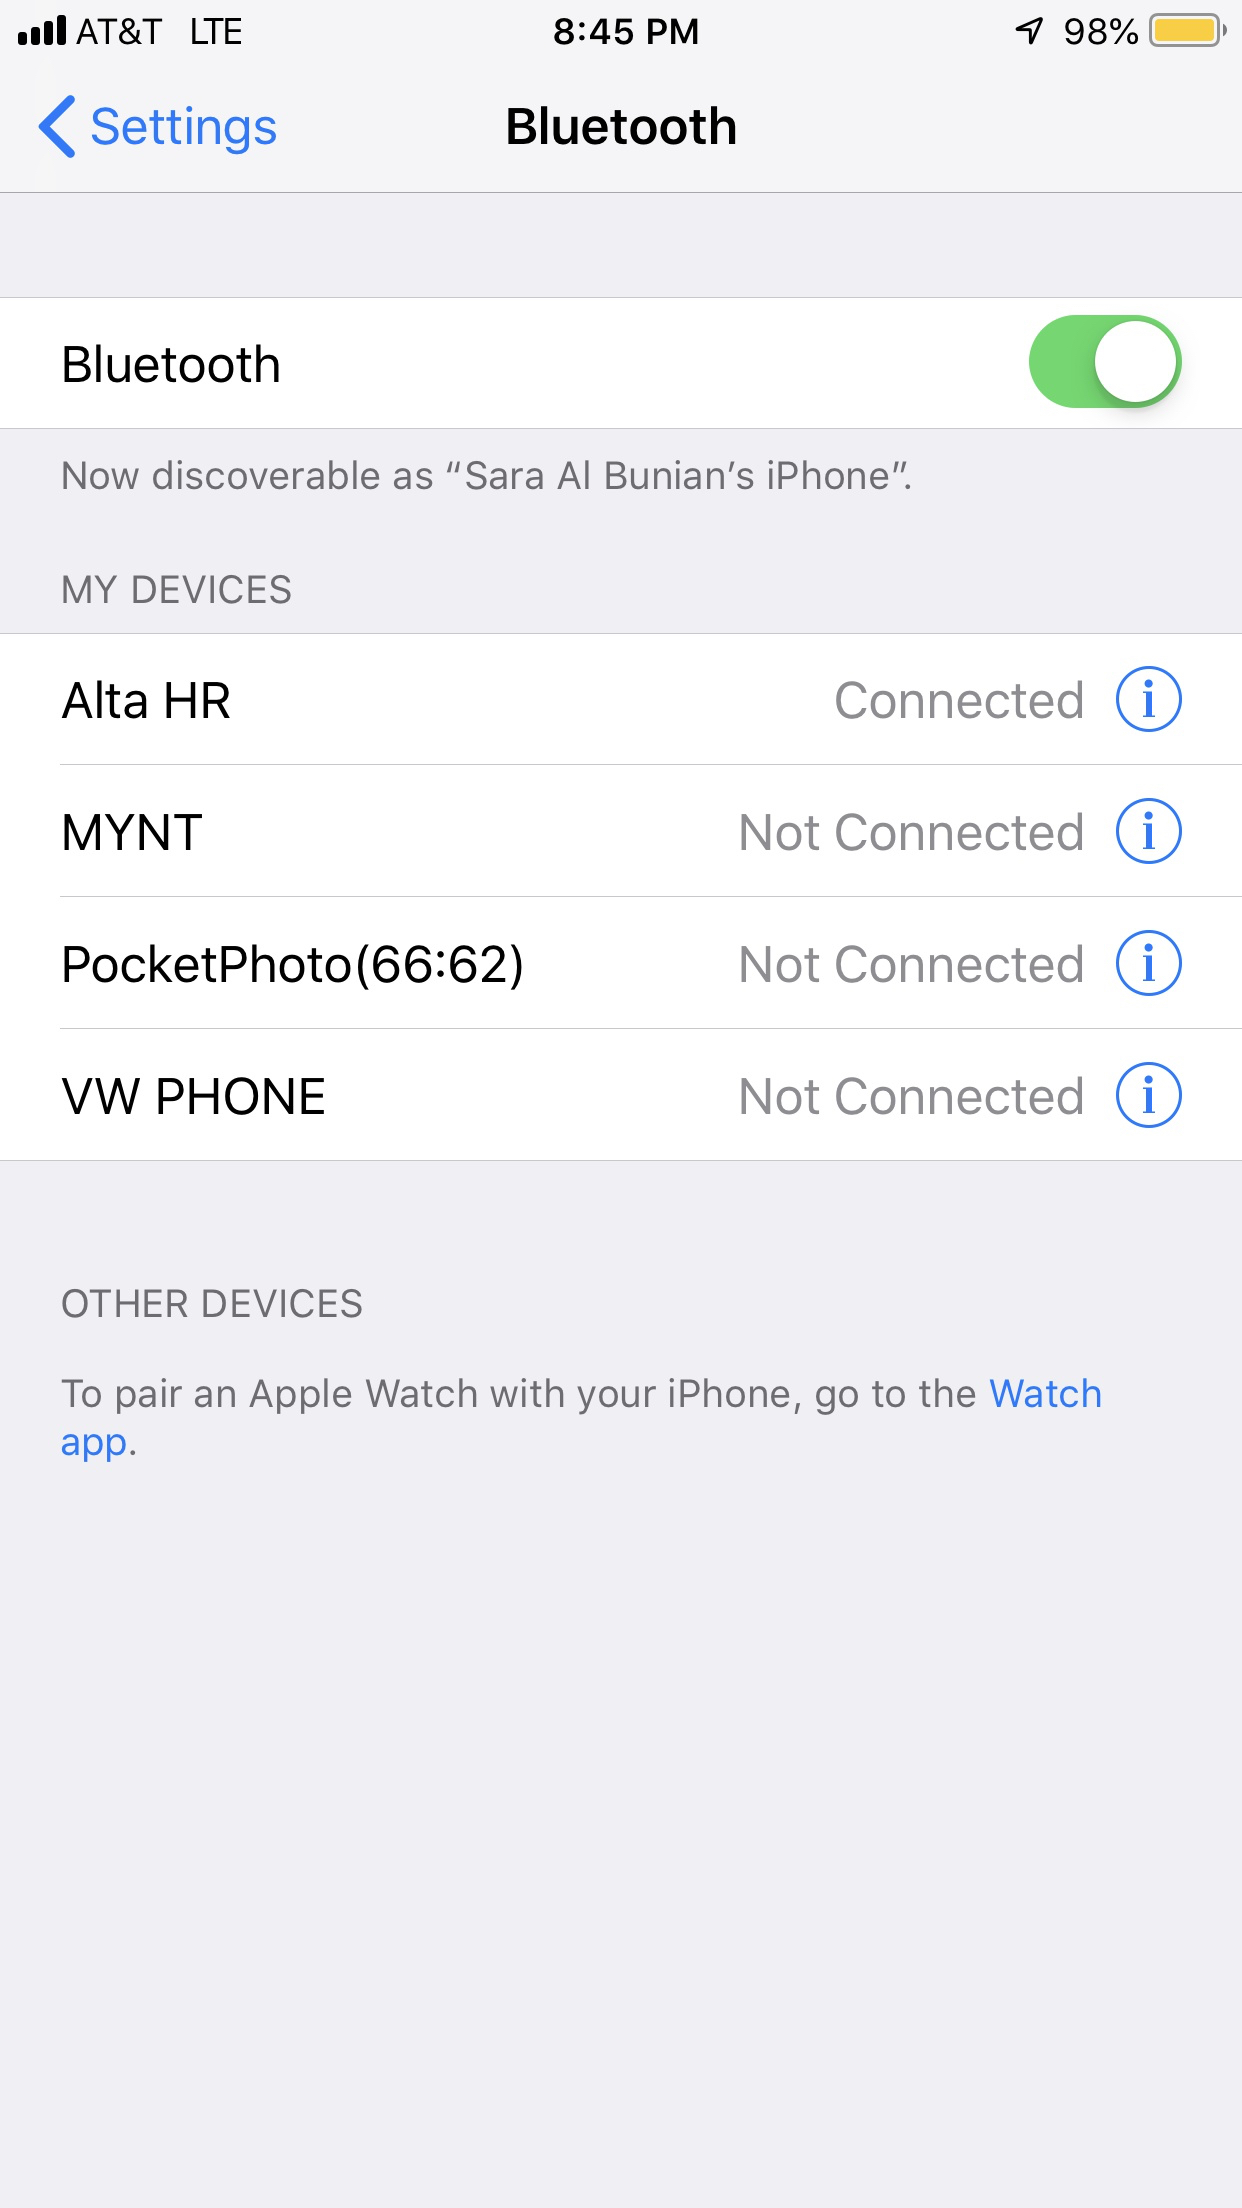Icon: (1115, 798, 1183, 866), (1115, 1062, 1183, 1128), (1115, 666, 1183, 732), (1116, 930, 1183, 996), (38, 96, 77, 161)
Switch: (1028, 315, 1183, 409)
Text: (61, 1378, 1101, 1463), (64, 459, 911, 491), (64, 943, 523, 990), (740, 811, 1083, 852), (740, 943, 1083, 984), (742, 1077, 1083, 1116), (836, 679, 1083, 720), (62, 1078, 325, 1116), (64, 1287, 364, 1319), (508, 106, 737, 147), (93, 106, 278, 156), (65, 344, 281, 384), (64, 575, 293, 605), (62, 679, 231, 720), (64, 814, 203, 851)
UpperTaskBar: (2, 2, 1242, 49)
